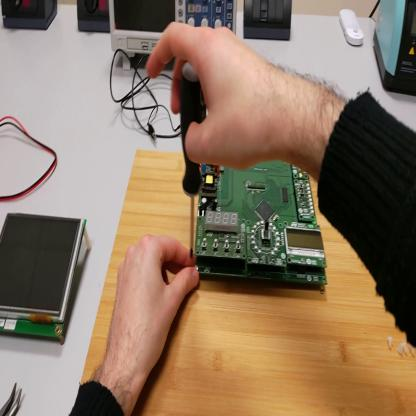hand: (145, 23, 277, 173), (105, 234, 199, 379)
low voltage board: (195, 160, 330, 285)
oscilloscope: (112, 2, 238, 70)
pliers: (1, 385, 24, 415)
screwdriver-: (179, 64, 206, 262)
socket: (2, 1, 60, 31), (77, 2, 112, 36)
welder station: (375, 1, 416, 94)
working area: (81, 149, 416, 416)
